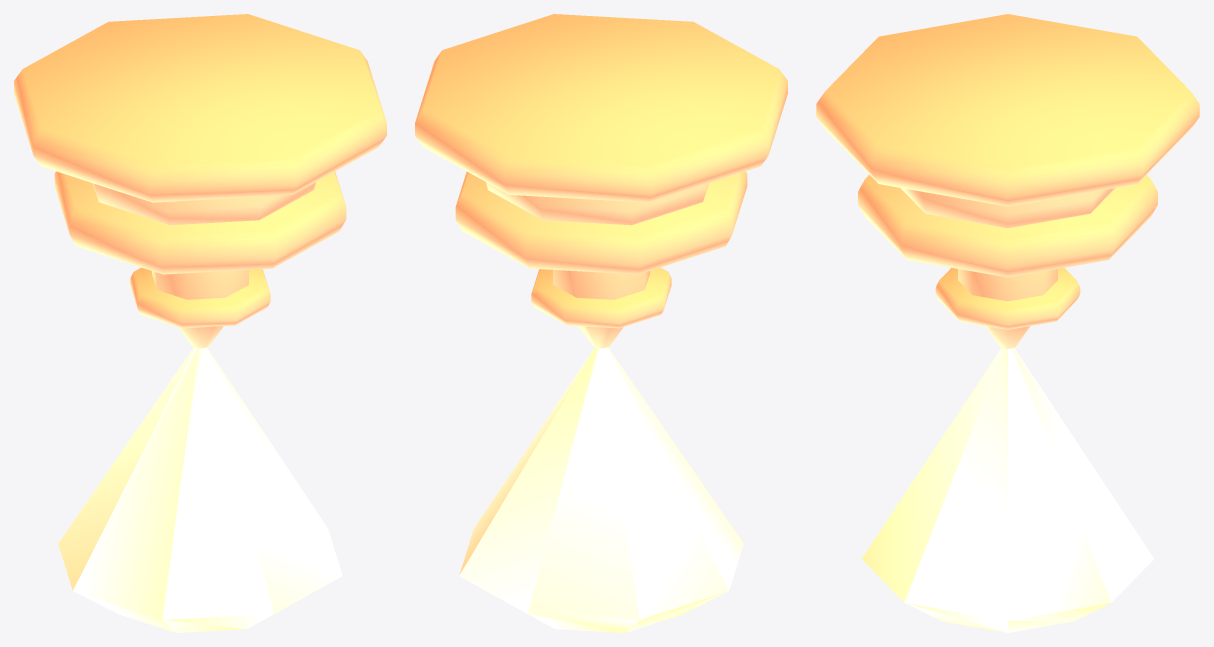
Rendered from wood_pommel_204_004.glb.
3 views of the same model, side by side, from view 1: azimuth 30°, elevation 25°; view 2: azimuth 150°, elevation 25°; view 3: azimuth 270°, elevation 25° (orthographic).
Parts seen in each view (by area): view 1: wood_pommel_204.004; view 2: wood_pommel_204.004; view 3: wood_pommel_204.004.
Boxes of the visible parts, bbox=[...] form: wood_pommel_204.004: bbox=[14, 14, 386, 632]; wood_pommel_204.004: bbox=[415, 14, 787, 632]; wood_pommel_204.004: bbox=[816, 14, 1199, 632].
Size of the model in its own units: 1.76 by 2.54 by 1.76.
1 material, 1 textured.
